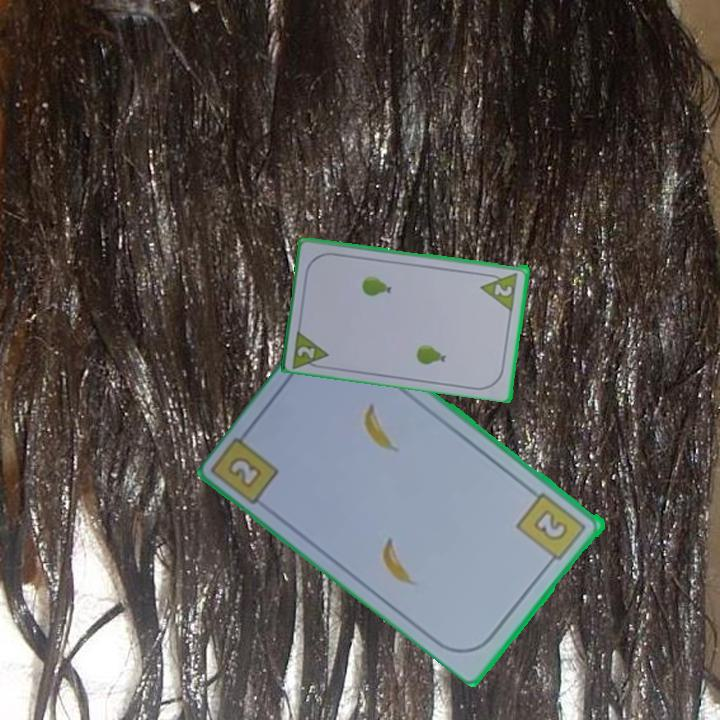2b: (513, 489, 590, 569), (227, 456, 262, 488)
2p: (491, 279, 515, 299), (294, 342, 318, 361)
